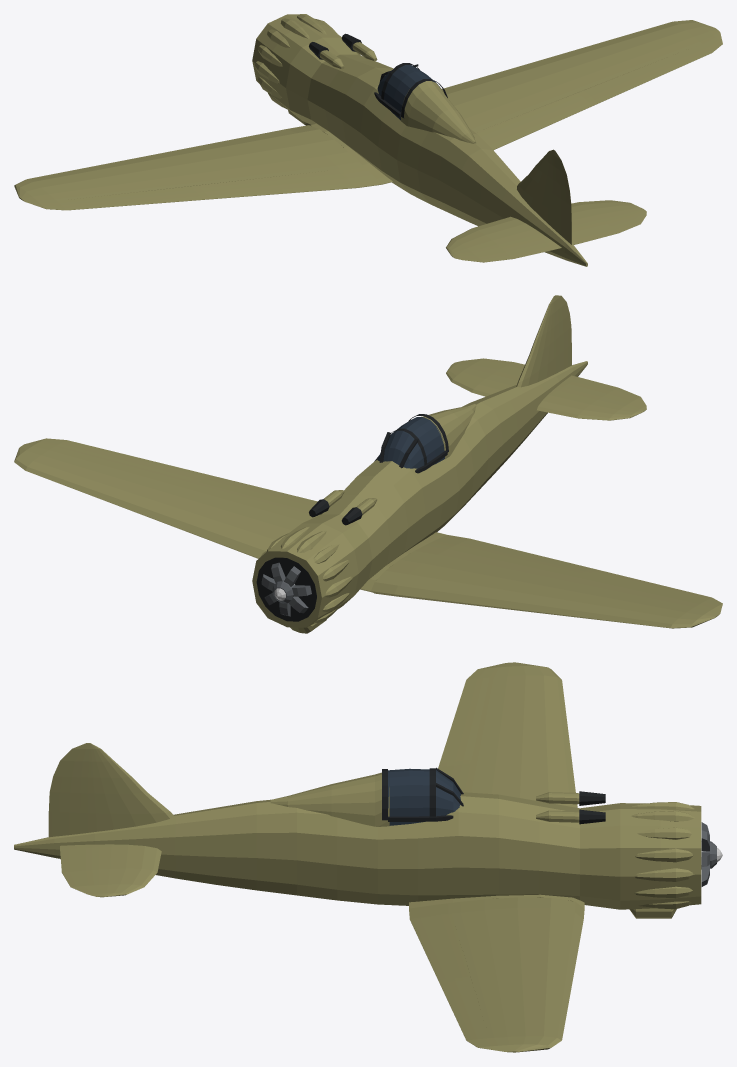
3 views of the same model, one above another, from view 1: azimuth 30°, elevation 25°; view 2: azimuth 150°, elevation 25°; view 3: azimuth 270°, elevation 25° (orthographic). The views are drawn at different scales.
Visible parts, largest first — view 1: Fuselage, Wing L, Wing R, Flap L, Dorsal Fairing, Flap R, Stabilizer L, Aileron R, Aileron L, Cowl Blisters, Vertical Fin, Rudder (+6 smaller); view 2: Fuselage, Wing L, Wing R, Stabilizer L, Cockpit Glass, Vertical Fin, Cowl Blisters, Stabilizer R, Cowl Face, Flap L, Engine, Aileron R (+7 smaller); view 3: Fuselage, Wing R, Wing L, Vertical Fin, Dorsal Fairing, Rudder, Cowl Blisters, Stabilizer R, Cockpit Glass, Flap R, Aileron L, Aileron R (+5 smaller).
Part boxes in pixels (box(x1,y1,x2,y2)): Fuselage: box(252, 14, 587, 266); Wing L: box(14, 123, 392, 210); Wing R: box(441, 20, 722, 132); Flap L: box(197, 169, 355, 199); Dorsal Fairing: box(401, 81, 475, 143); Flap R: box(476, 93, 591, 150); Stabilizer L: box(446, 216, 543, 257); Aileron R: box(584, 44, 711, 103); Aileron L: box(57, 186, 204, 210); Cowl Blisters: box(255, 14, 337, 110); Vertical Fin: box(517, 149, 553, 225); Rudder: box(551, 150, 571, 244); Fuselage: box(252, 361, 587, 627); Wing L: box(360, 532, 722, 628); Wing R: box(14, 438, 319, 558); Stabilizer L: box(537, 384, 645, 420); Cockpit Glass: box(377, 417, 444, 468); Vertical Fin: box(516, 296, 555, 387); Cowl Blisters: box(260, 526, 352, 623); Stabilizer R: box(446, 363, 520, 396); Cowl Face: box(256, 557, 316, 621); Flap L: box(454, 539, 591, 574); Engine: box(261, 562, 311, 616); Aileron R: box(57, 440, 203, 480); Fuselage: box(14, 792, 701, 909); Wing R: box(409, 894, 584, 1052); Wing L: box(438, 662, 577, 807); Vertical Fin: box(90, 743, 173, 832); Dorsal Fairing: box(270, 772, 389, 826); Rudder: box(48, 743, 90, 837); Cowl Blisters: box(631, 802, 694, 909); Stabilizer R: box(94, 844, 161, 897); Cockpit Glass: box(388, 768, 461, 825); Flap R: box(410, 914, 470, 980); Aileron L: box(440, 677, 488, 763); Aileron R: box(439, 979, 488, 1040).
Size of the model in its own units: 10.58 by 2.19 by 8.15.
